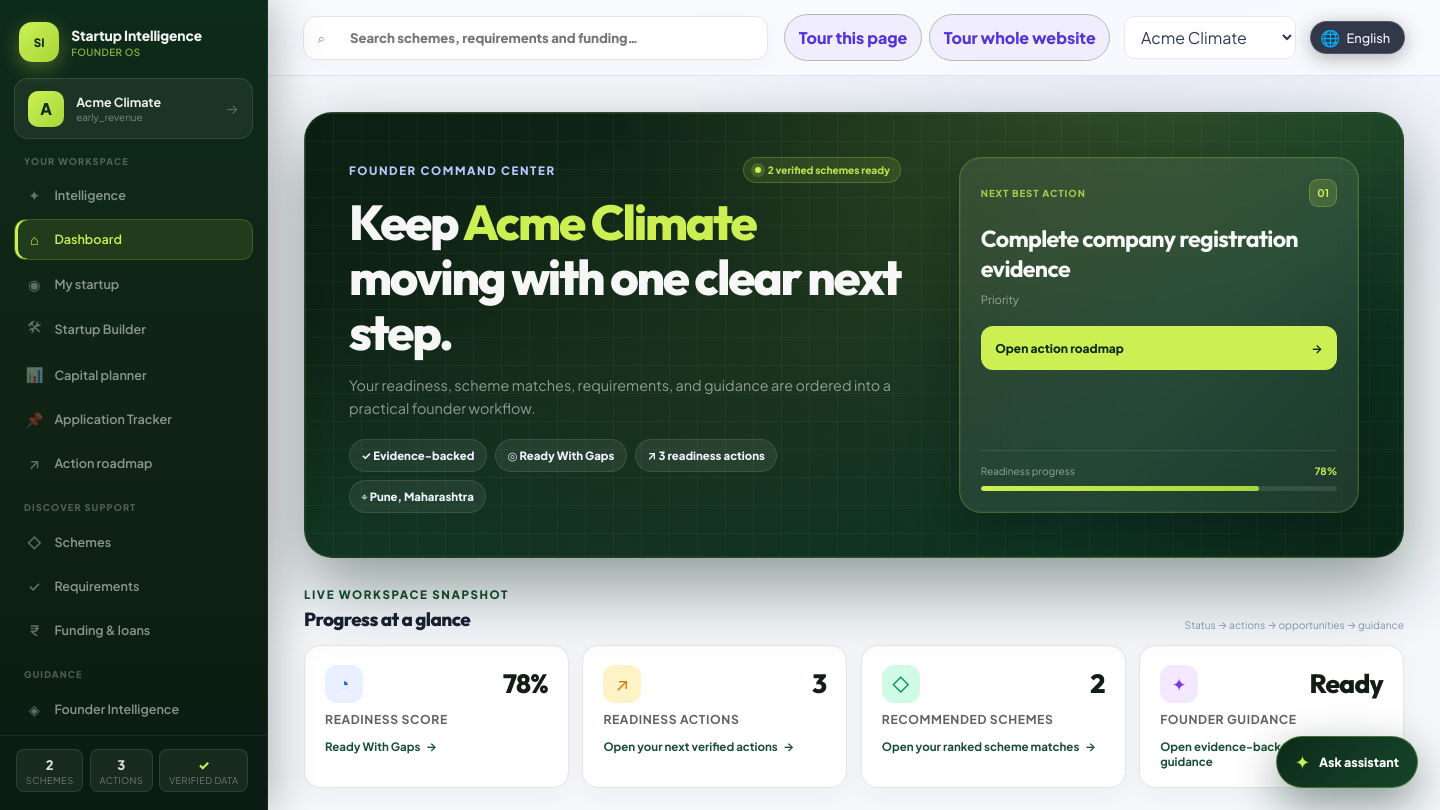
Test: functional user dashboard › opens the startup readiness and roadmap pages
This screenshot has width=1440, height=810.
Click the link "◉ My startup": (74, 284) left=28, top=275, right=119, bottom=293
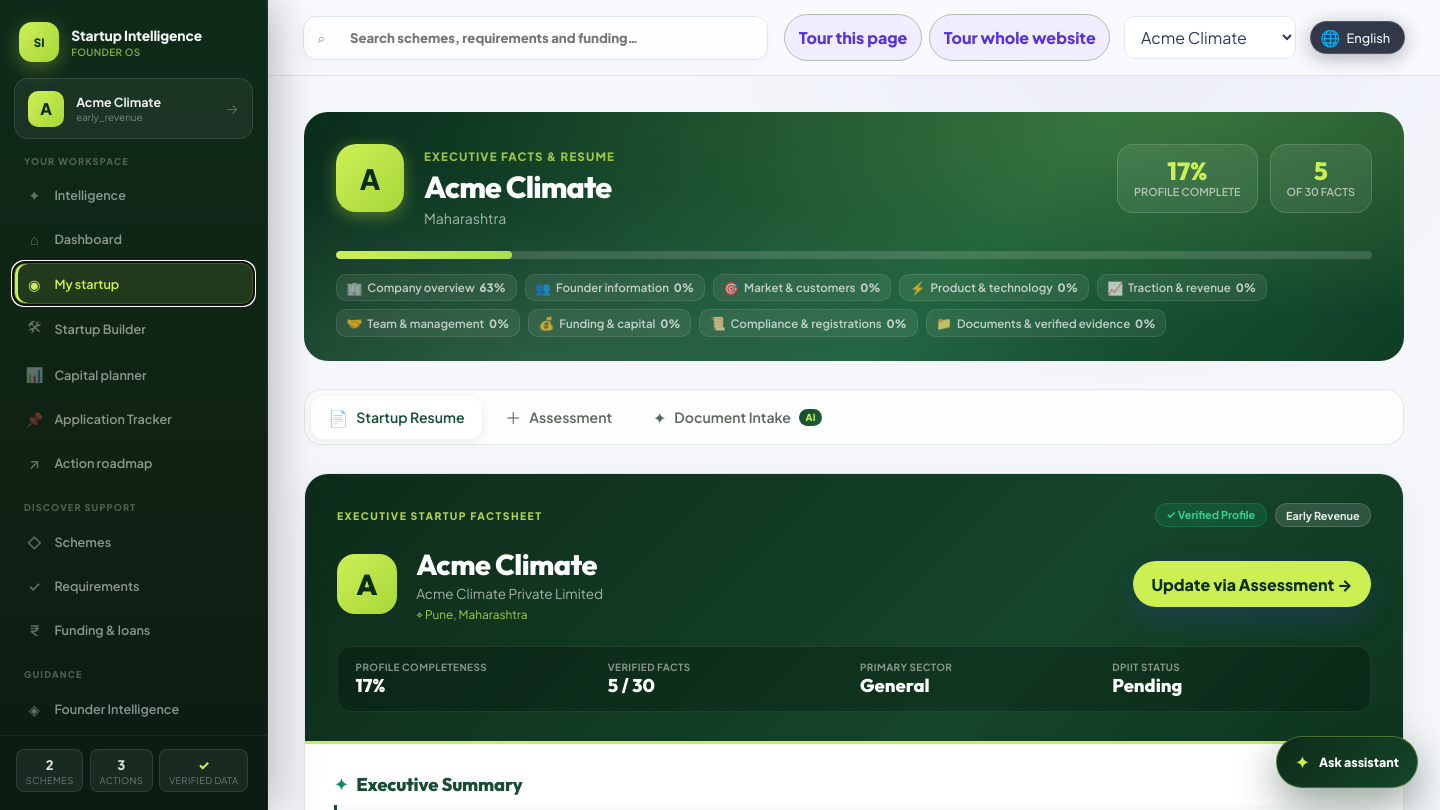
Expected: the heading "Acme Climate" below "Executive Facts & Resume" is shown, left=424, top=168, right=615, bottom=206
Click the link "↗ Action roadmap": (91, 463) left=29, top=454, right=152, bottom=472
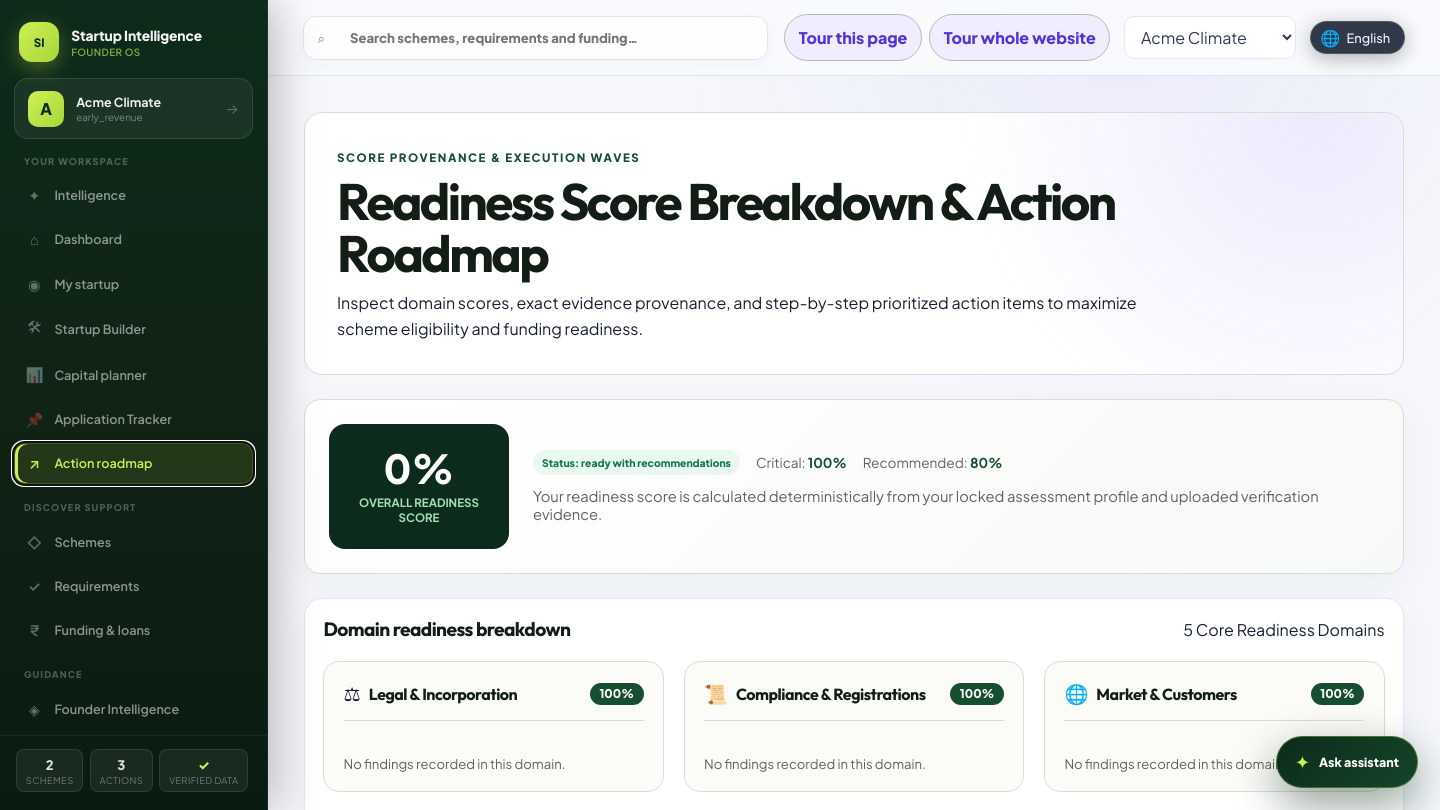
Now the heading "Readiness Score Breakdown & Action Roadmap" is shown, box left=337, top=175, right=1187, bottom=279
Now the heading "Domain readiness breakdown" is shown, box left=323, top=617, right=570, bottom=641
